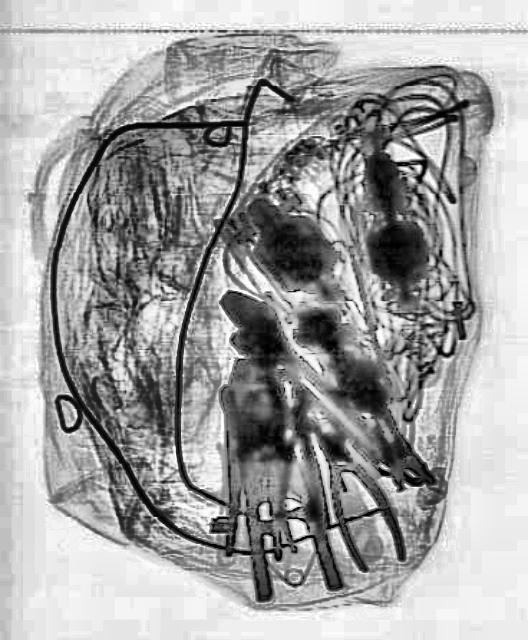Pliers: (216, 380, 342, 608), (289, 395, 413, 581), (212, 354, 294, 560)
